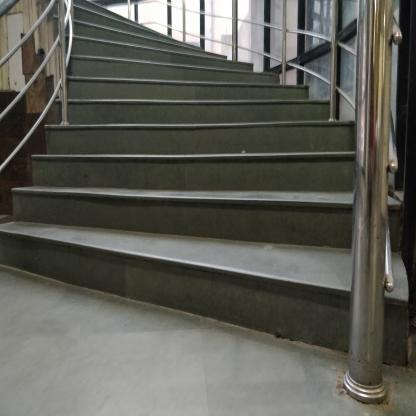stairs: (40, 160, 341, 367)
